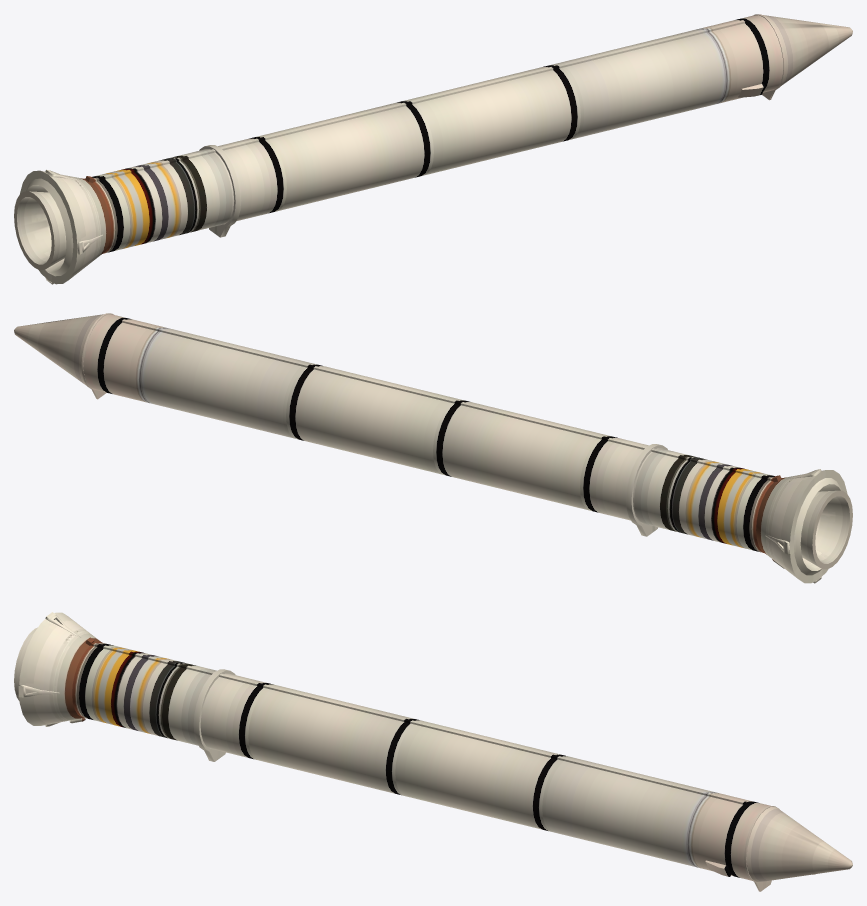
File: space-shuttle-parts-5.glb
3 renders of one model, top to bottom at view 1: azimuth 30°, elevation 25°; view 2: azimuth 150°, elevation 25°; view 3: azimuth 330°, elevation 25°, orthographic.
Parts seen in each view (by area): view 1: srb.layer1; view 2: srb.layer1; view 3: srb.layer1.
Boxes of the visible parts, x1=… form: srb.layer1: x1=14, y1=14, x2=852, y2=284; srb.layer1: x1=14, y1=313, x2=852, y2=583; srb.layer1: x1=14, y1=612, x2=852, y2=891.
Bounding box in the file's own units: 1781 × 229 × 229.
Materials: 1 (1 with a texture image).
